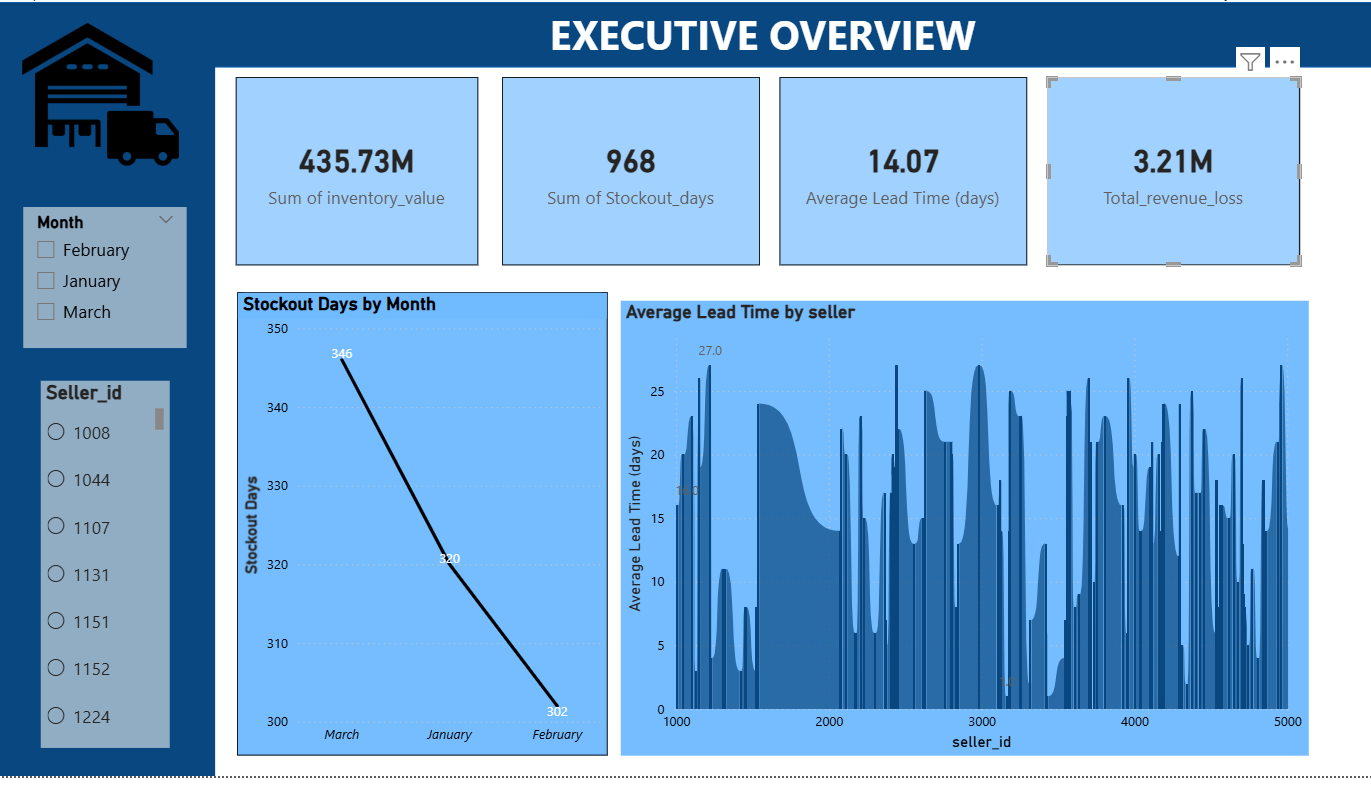

What the dashboard file says about the page in this screenshot:
{"tool":"powerbi","page":{"name":"Page 1","canvas":[1280,720],"ordinal":0},"visuals":[{"type":"shape","box":[0,0,1280.3,61],"z":0},{"type":"shape","box":[0,49.2,202.9,671.2],"z":1000},{"type":"textbox","box":[202.5,61.2,1050,581.2],"z":2000},{"type":"card","fields":{"Values":["Sum(iet inventory_value.inventory_value)"]},"box":[222,70,225.6,175.6],"z":3000},{"type":"card","fields":{"Values":["Sum(iet stockout_days.Stockout_days)"]},"box":[470,70,240,175.6],"z":4000},{"type":"card","fields":{"Values":["iet orders_table.Average Lead Time"]},"box":[727.8,70,230,175.6],"z":5000},{"type":"card","fields":{"Values":["iet revenue_loss.Measure 2"]},"box":[976.7,70,235.6,175.6],"z":6000},{"type":"lineChart","fields":{"Category":["iet inventory_table.Month"],"Y":["iet avg_lead_time.Stockout Days"]},"box":[223.3,270,344.4,431.1],"z":7000},{"type":"textbox","box":[509.1,0,510.3,68.4],"z":8000},{"type":"slicer","fields":{"Values":["iet inventory_table.Month"]},"box":[24.4,190.7,152.3,131.4],"z":9000},{"type":"listSlicer","title":"Seller_id","fields":{"Values":["iet orders_table.seller_id"]},"box":[40.7,352.3,119.8,341.9],"z":10000},{"type":"columnChart","title":"Average Lead Time by seller","fields":{"Y":["iet orders_table.Average Lead Time"],"Category":["iet orders_table.seller_id"]},"box":[580,277.8,640,423.3],"z":11000},{"type":"image","box":[11.6,8.1,165.1,150],"z":12000}]}

Visuals, with their boxes in screenshot pixels (x1, y1, x2, y2), scaled from the page's 1280x720 canvas onto the 1371x795 screenshot:
shape: bbox=(0, 0, 1370, 67)
shape: bbox=(0, 54, 217, 794)
textbox: bbox=(217, 68, 1342, 709)
card - Sum(iet inventory_value.inventory_value): bbox=(238, 77, 479, 271)
card - Sum(iet stockout_days.Stockout_days): bbox=(503, 77, 760, 271)
card - iet orders_table.Average Lead Time: bbox=(780, 77, 1026, 271)
card - iet revenue_loss.Measure 2: bbox=(1046, 77, 1298, 271)
lineChart - iet inventory_table.Month x iet avg_lead_time.Stockout Days: bbox=(239, 298, 608, 774)
textbox: bbox=(545, 0, 1092, 76)
slicer - iet inventory_table.Month: bbox=(26, 211, 189, 356)
"Seller_id" listSlicer: bbox=(44, 389, 172, 767)
"Average Lead Time by seller" columnChart: bbox=(621, 307, 1307, 774)
image: bbox=(12, 9, 189, 175)
